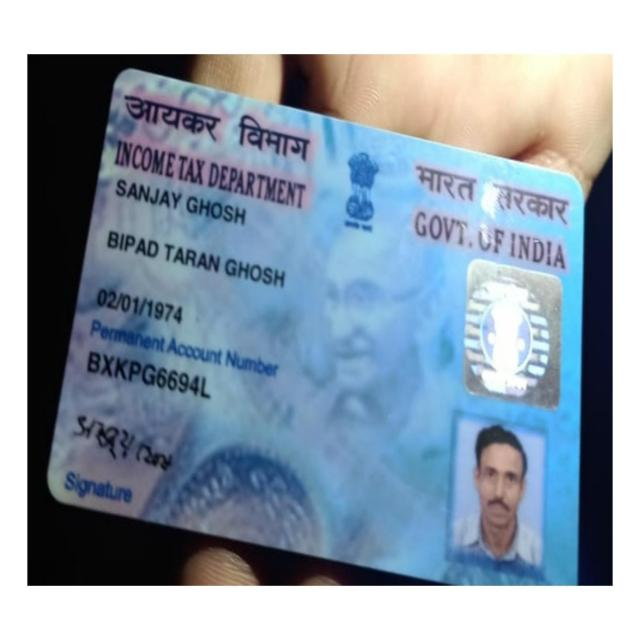pan_card: (44, 70, 583, 588)
